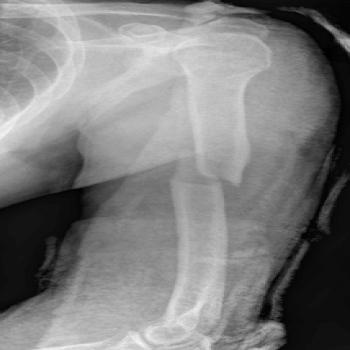Fracture: (160, 154, 250, 202)
